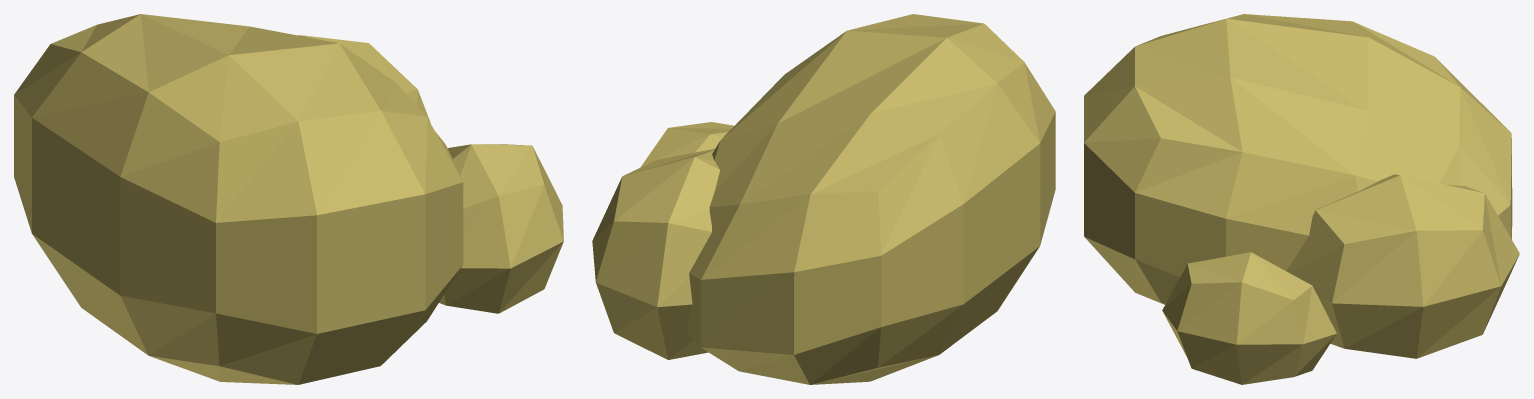
File: A_rock.FBX
3 views of the same model, side by side, from view 1: azimuth 30°, elevation 25°; view 2: azimuth 150°, elevation 25°; view 3: azimuth 270°, elevation 25° (orthographic). The views are drawn at different scales.
Visible parts, largest first — view 1: Object; view 2: Object; view 3: Object.
Part boxes in pixels (<box>): Object: <box>14,14,563,384</box>; Object: <box>592,14,1055,384</box>; Object: <box>1084,14,1519,384</box>.
Size of the model in its own units: 1.36 by 0.967 by 1.42.
